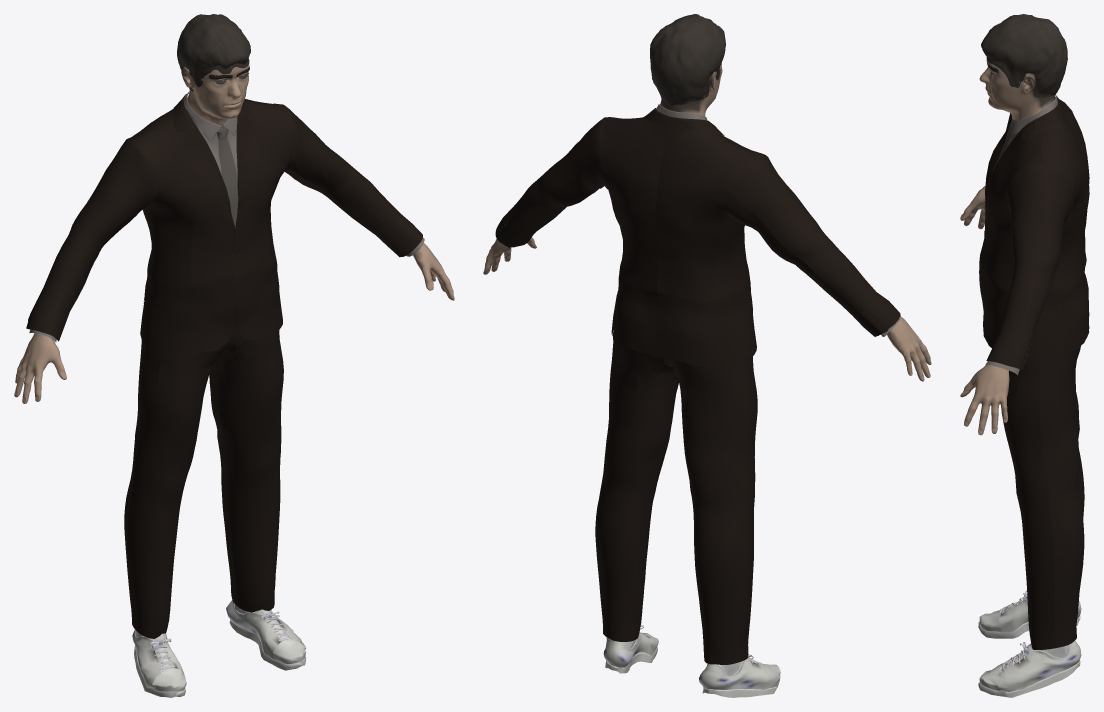
File: 0026-People-cast-cooked-mh-51.glb
3 views of the same model, side by side, from view 1: azimuth 30°, elevation 25°; view 2: azimuth 150°, elevation 25°; view 3: azimuth 270°, elevation 25° (orthographic). The views are drawn at different scales.
Parts seen in each view (by area): view 1: People: cast (cooked)/mh_51; view 2: People: cast (cooked)/mh_51; view 3: People: cast (cooked)/mh_51.
Boxes of the visible parts, box(x1,y1,x2,y2) form: People: cast (cooked)/mh_51: box(14, 14, 454, 697); People: cast (cooked)/mh_51: box(483, 14, 931, 697); People: cast (cooked)/mh_51: box(960, 14, 1089, 697).
Bounding box in the file's own units: 1.23 × 1.78 × 0.3232.
